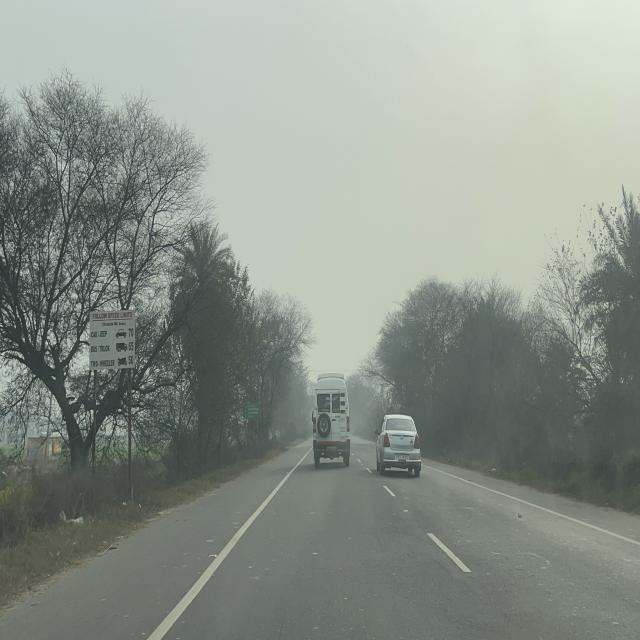INFORMATION: (242, 402, 260, 419)
